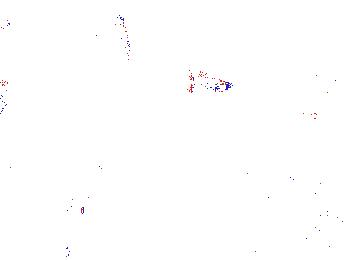glassfish: (68, 160, 103, 224)
red belly glassfish: (268, 111, 322, 129)
redtail glassfish: (187, 69, 234, 96), (114, 14, 135, 58)
